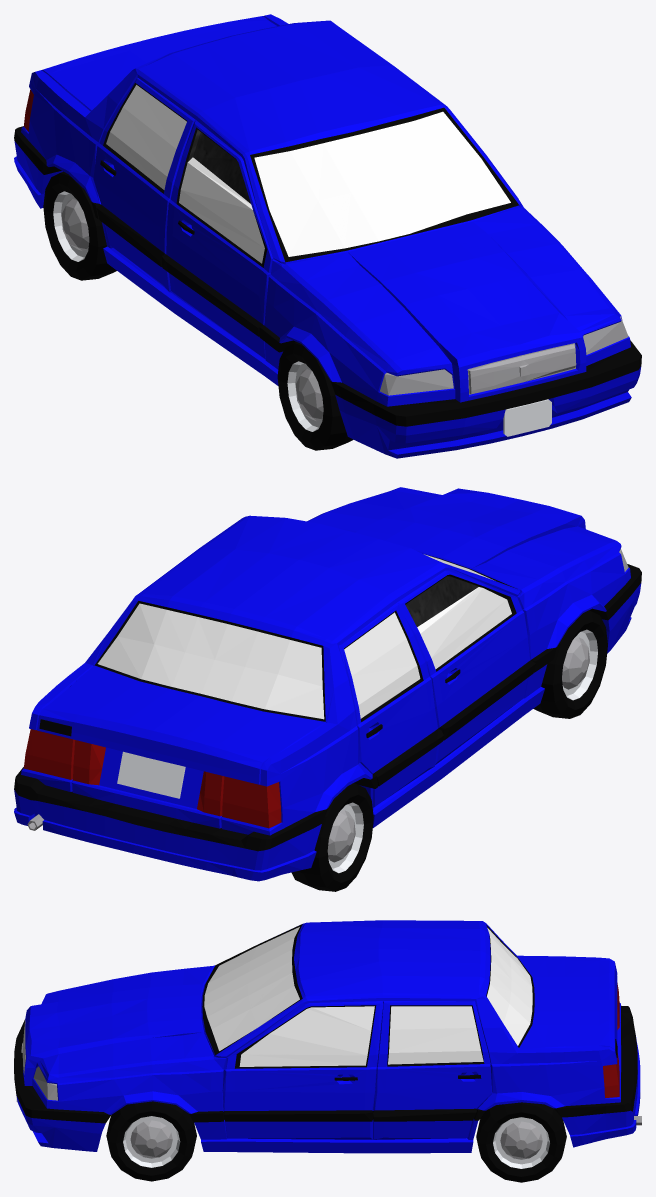
File: StationWagon_Sedan_01.fbx
3 views of the same model, one above another, from view 1: azimuth 30°, elevation 25°; view 2: azimuth 150°, elevation 25°; view 3: azimuth 270°, elevation 25° (orthographic). The views are drawn at different scales.
Parts seen in each view (by area): view 1: SM_StationWagon_Sedan_01.mo; view 2: SM_StationWagon_Sedan_01.mo; view 3: SM_StationWagon_Sedan_01.mo.
Part boxes in pixels (x1,y1,x2,y2): SM_StationWagon_Sedan_01.mo: [14, 14, 641, 458]; SM_StationWagon_Sedan_01.mo: [14, 487, 641, 891]; SM_StationWagon_Sedan_01.mo: [14, 920, 641, 1182].
Bounding box in the file's own units: 207 × 160 × 499.
